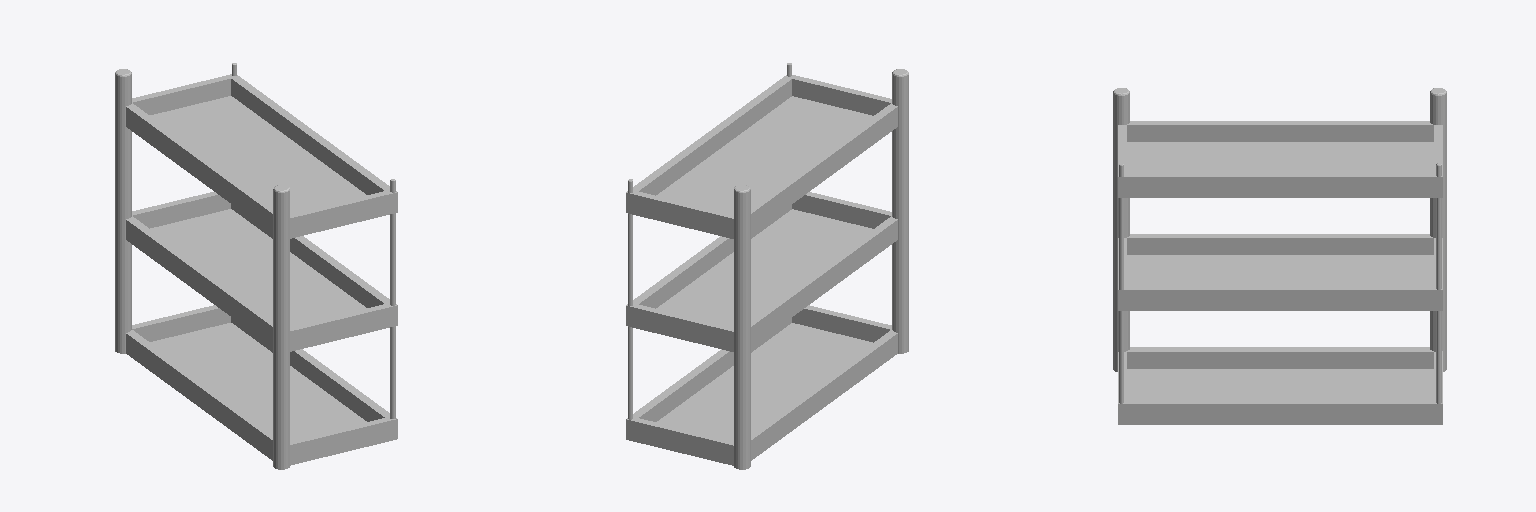
The model's file is ESTANTE POCOES.obj.
The picture shows the model from 3 angles: view 1: azimuth 30°, elevation 25°; view 2: azimuth 150°, elevation 25°; view 3: azimuth 270°, elevation 25°; orthographic projection.
Parts seen in each view (by area): view 1: ESTANTE_Pocoes_MESH; view 2: ESTANTE_Pocoes_MESH; view 3: ESTANTE_Pocoes_MESH.
Part boxes in pixels (bbox=[...]): ESTANTE_Pocoes_MESH: bbox=[115, 63, 397, 469]; ESTANTE_Pocoes_MESH: bbox=[626, 63, 908, 469]; ESTANTE_Pocoes_MESH: bbox=[1113, 88, 1446, 424].
Size of the model in its own units: 0.8067 by 1.77 by 1.92.